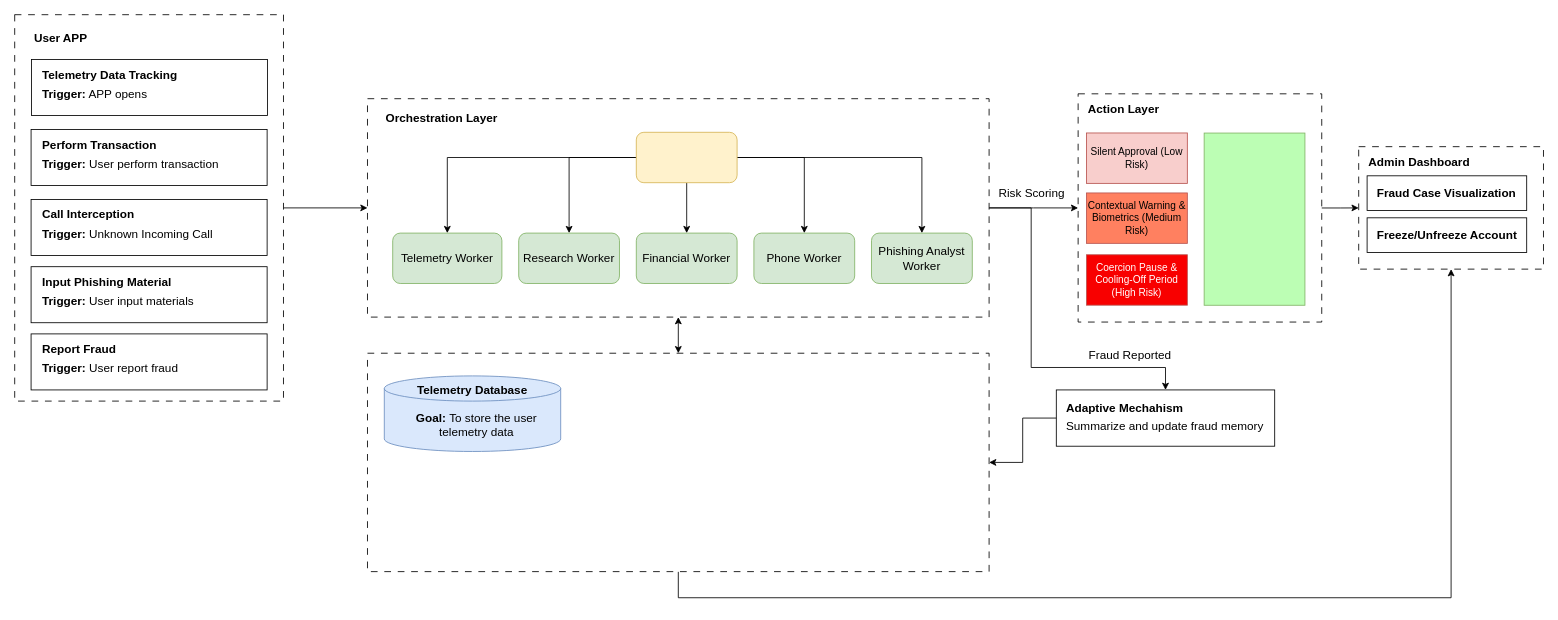
Some shapes in this 1558 by 620 pixel diagram are drawn without their labels. Each missing label, with the centre of its shape:
"Orchestrator" belongs at point (686, 157).
"Supported with Explainable AI" belongs at point (1254, 218).
